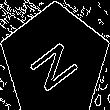N_NE: (24, 30, 86, 92)
